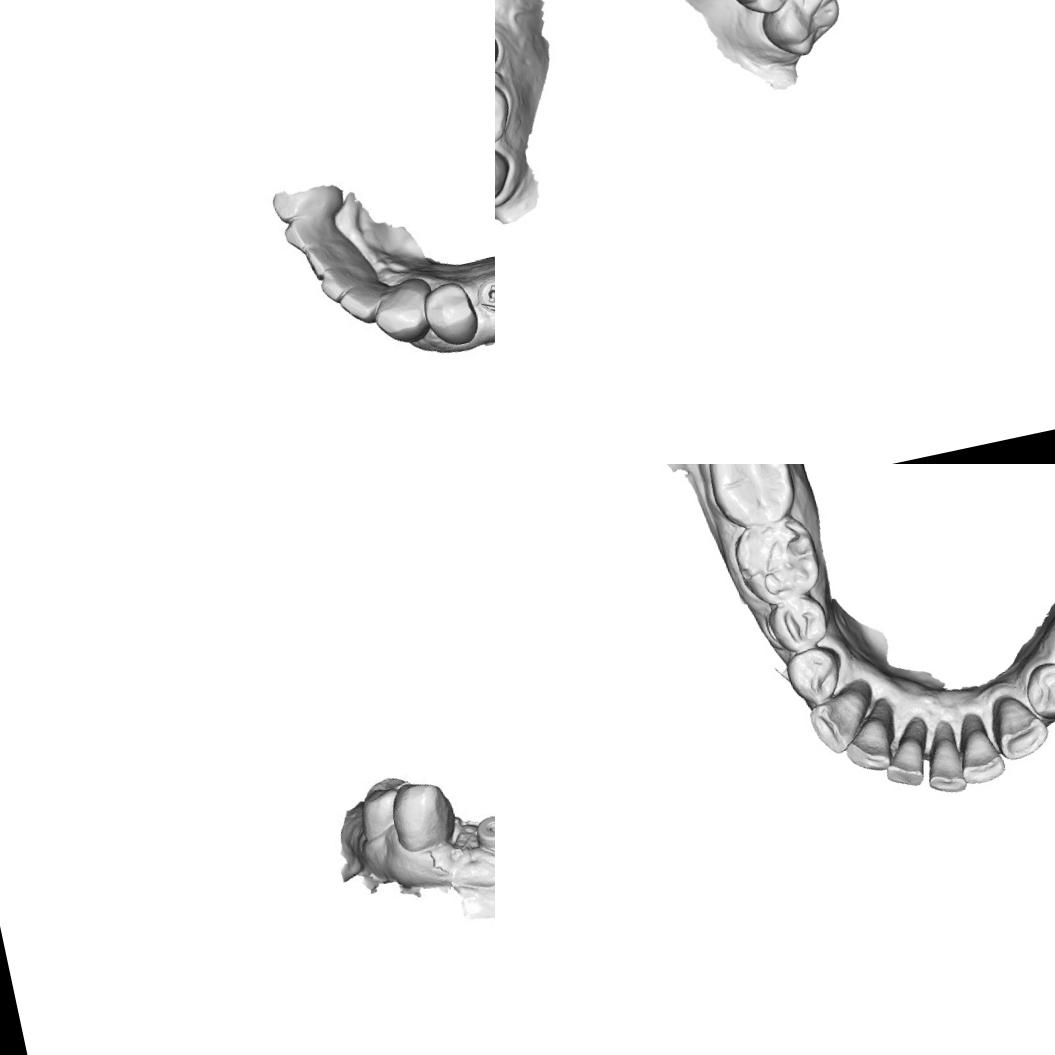canine: (804, 682, 882, 759), (364, 273, 436, 348), (985, 686, 1052, 766)
implant: (469, 805, 495, 859)
implant_minus: (472, 272, 495, 318)
incisor: (952, 715, 1010, 791), (914, 727, 971, 800), (838, 717, 895, 779), (284, 205, 345, 257), (878, 735, 930, 795), (317, 256, 380, 305), (303, 234, 366, 282), (338, 278, 388, 324)
molar: (726, 508, 829, 610), (699, 464, 801, 532), (748, 0, 851, 65), (382, 775, 458, 858), (495, 62, 517, 160), (718, 0, 814, 22), (495, 124, 516, 220)
premolar: (420, 273, 486, 351), (764, 590, 832, 658), (782, 643, 848, 708), (1020, 654, 1055, 723)
